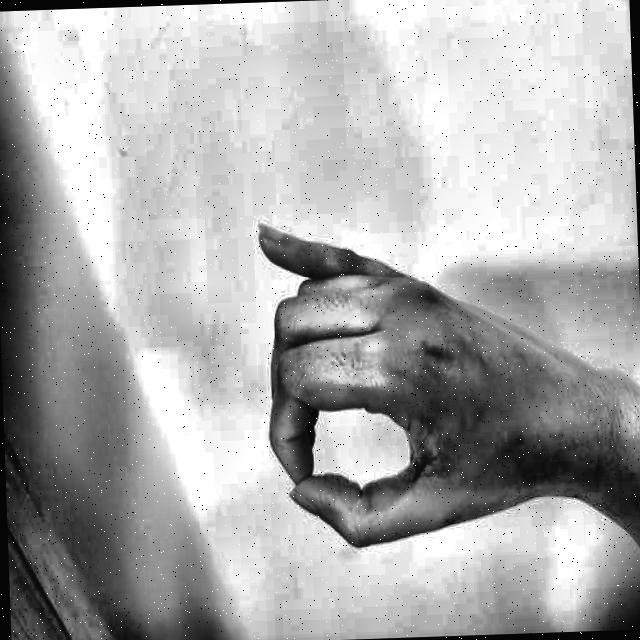Ou: (232, 192, 566, 584)
